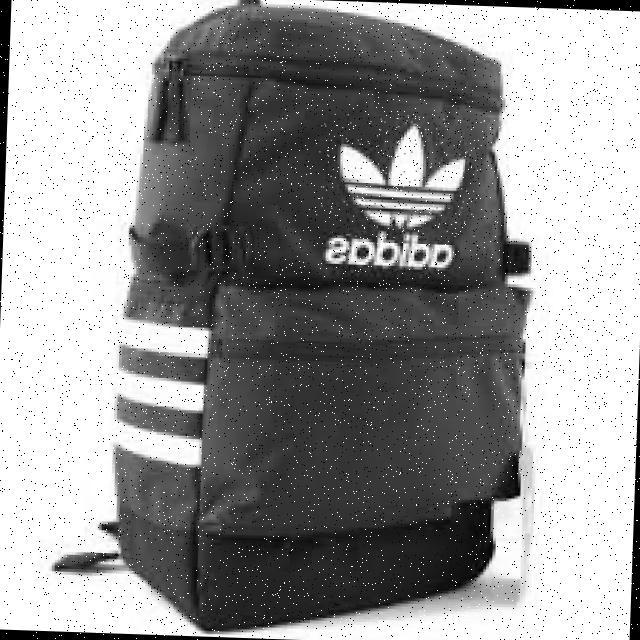Adidas: (314, 112, 484, 241)
